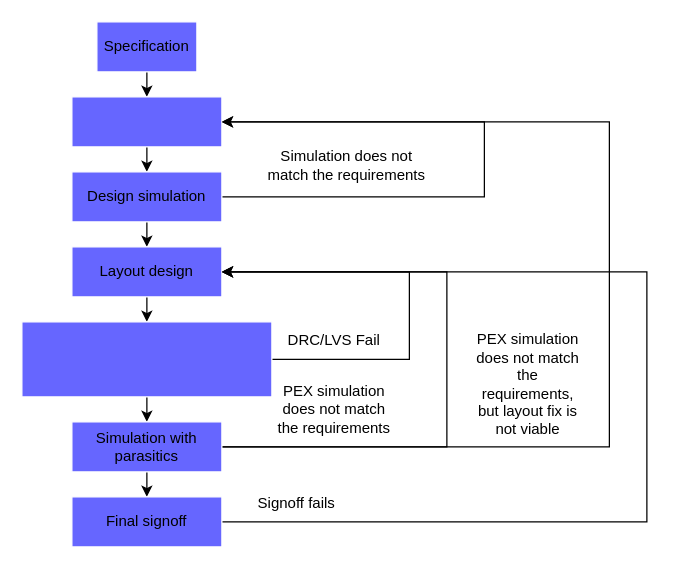
Image size: 679x569. Some labels were removed from this diagram. Each missing label, with the box of its shape:
Design Rule Check (DRC) Layout versus Schematic (LVS) Parasitic Extraction (PEX): (21, 321, 272, 397)
Schematic and testbench design: (71, 96, 222, 147)
